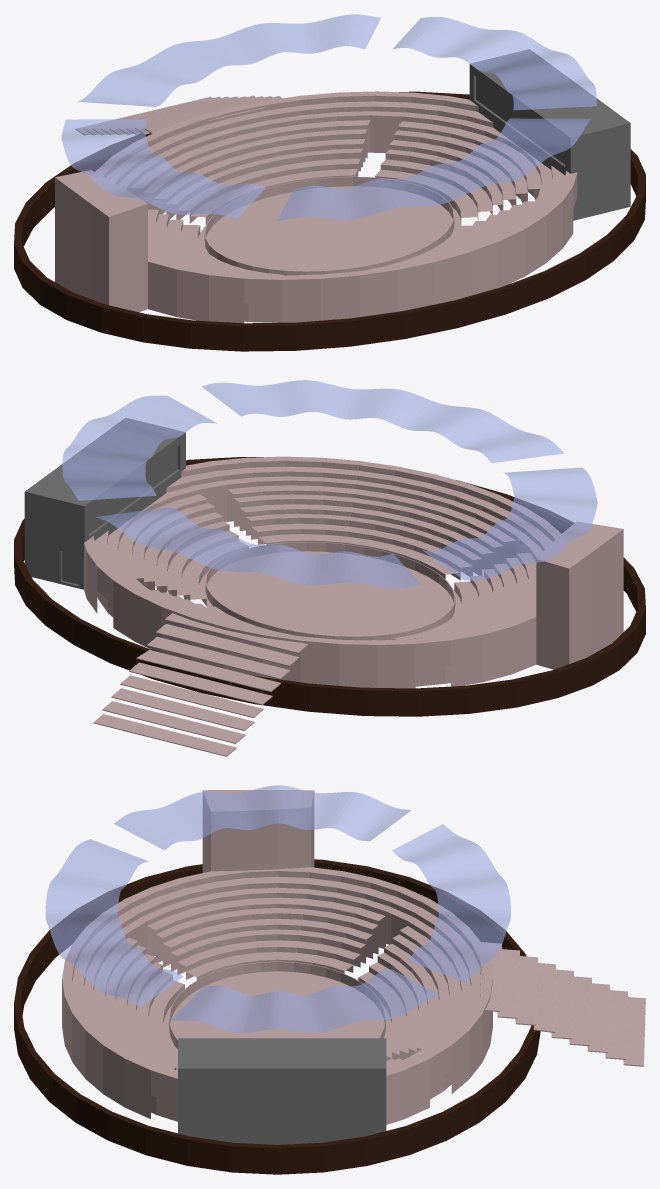
File: Conferernce Hall.glb
3 views of the same model, one above another, from view 1: azimuth 30°, elevation 25°; view 2: azimuth 150°, elevation 25°; view 3: azimuth 270°, elevation 25° (orthographic). The views are drawn at different scales.
Parts seen in each view (by area): view 1: sports stadium.007, sports stadium.005, sports stadium.006, sports stadium.067, 14326_Straight_Stair_with_Right-Side_Banister-Honey_v1_l1.00, sports stadium.017, sports stadium.016, sports stadium.741, sports stadium.654, sports stadium.739, sports stadium.749, sports stadium.510 (+33 smaller); view 2: sports stadium.007, sports stadium.005, sports stadium.006, 14326_Straight_Stair_with_Right-Side_Banister-Honey_v1_l1.00, sports stadium.067, sports stadium.010, sports stadium.450, sports stadium.385, sports stadium.449, sports stadium.011, sports stadium.501, sports stadium.612 (+24 smaller); view 3: sports stadium.007, sports stadium.005, sports stadium.006, 14326_Straight_Stair_with_Right-Side_Banister-Honey_v1_l1.00, sports stadium.067, sports stadium.609, sports stadium.015, sports stadium.018, sports stadium.1299, sports stadium.021, sports stadium.014, sports stadium.1301 (+13 smaller).
Part boxes in pixels (left/top/right/bottom): sports stadium.007: left=61, top=14, right=596, bottom=221; sports stadium.005: left=14, top=91, right=645, bottom=351; sports stadium.006: left=469, top=49, right=630, bottom=220; sports stadium.067: left=206, top=186, right=452, bottom=265; 14326_Straight_Stair_with_Right-Side_Banister-Honey_v1_l1.00: left=75, top=95, right=282, bottom=135; sports stadium.017: left=109, top=203, right=147, bottom=248; sports stadium.016: left=109, top=235, right=147, bottom=274; sports stadium.741: left=320, top=275, right=359, bottom=303; sports stadium.654: left=109, top=261, right=147, bottom=299; sports stadium.739: left=282, top=279, right=320, bottom=304; sports stadium.749: left=359, top=270, right=397, bottom=299; sports stadium.510: left=244, top=278, right=281, bottom=304; sports stadium.007: left=62, top=380, right=597, bottom=588; sports stadium.005: left=14, top=457, right=645, bottom=716; sports stadium.006: left=24, top=418, right=185, bottom=589; 14326_Straight_Stair_with_Right-Side_Banister-Honey_v1_l1.00: left=93, top=613, right=308, bottom=756; sports stadium.067: left=207, top=552, right=447, bottom=636; sports stadium.010: left=536, top=559, right=569, bottom=599; sports stadium.450: left=339, top=644, right=377, bottom=669; sports stadium.385: left=300, top=640, right=339, bottom=668; sports stadium.449: left=378, top=644, right=415, bottom=669; sports stadium.011: left=536, top=590, right=569, bottom=626; sports stadium.501: left=415, top=640, right=450, bottom=668; sports stadium.612: left=536, top=617, right=569, bottom=650; sports stadium.007: left=45, top=785, right=510, bottom=1032; sports stadium.005: left=14, top=859, right=540, bottom=1174; sports stadium.006: left=178, top=1038, right=386, bottom=1144; 14326_Straight_Stair_with_Right-Side_Banister-Honey_v1_l1.00: left=480, top=942, right=645, bottom=1066; sports stadium.067: left=171, top=971, right=353, bottom=1038; sports stadium.609: left=243, top=842, right=277, bottom=870; sports stadium.015: left=277, top=839, right=311, bottom=869; sports stadium.018: left=211, top=843, right=243, bottom=871; sports stadium.1299: left=238, top=790, right=277, bottom=810; sports stadium.021: left=203, top=790, right=243, bottom=811; sports stadium.014: left=277, top=819, right=311, bottom=841; sports stadium.1301: left=243, top=822, right=277, bottom=843.
Bounding box in the file's own units: 505 × 105 × 464.
